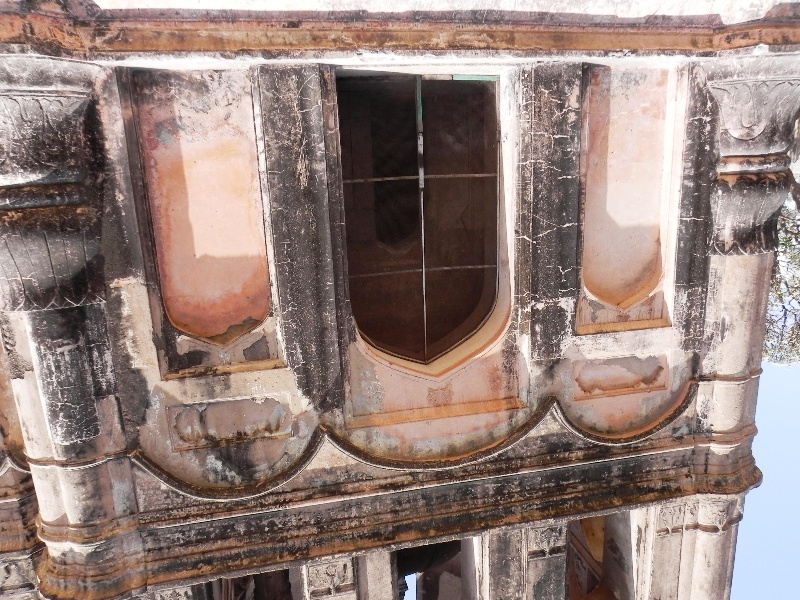Spalling: (200, 312, 279, 364)
